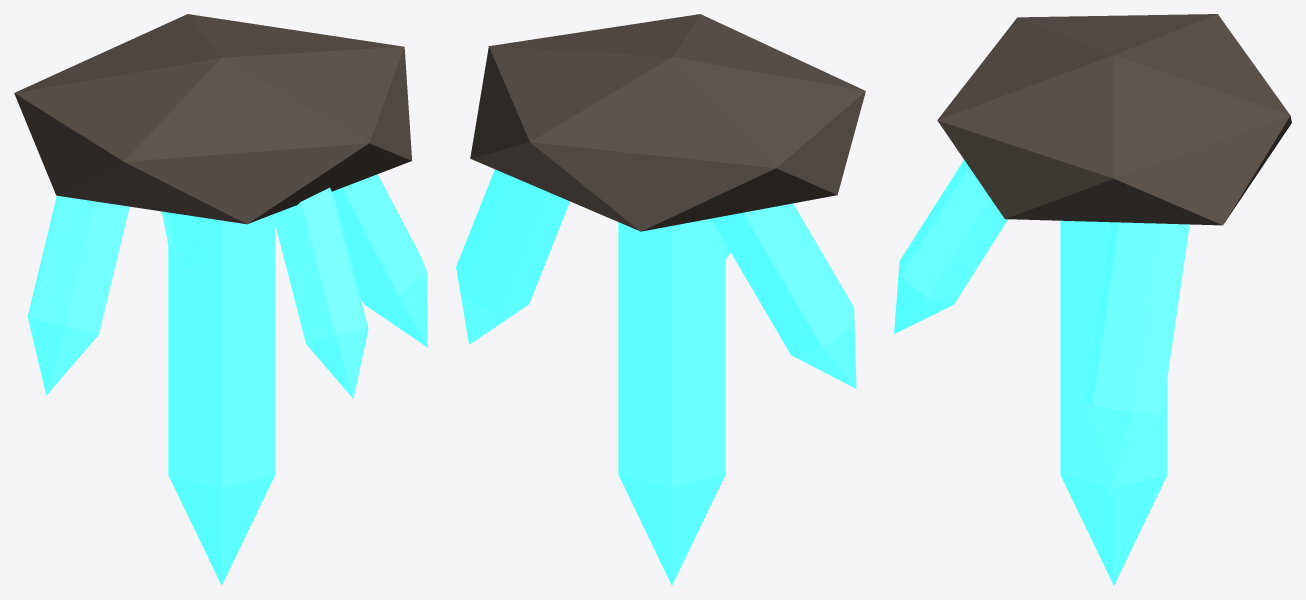
The model's file is mine_crystal_hanging.glb.
3 views of the same model, side by side, from view 1: azimuth 30°, elevation 25°; view 2: azimuth 150°, elevation 25°; view 3: azimuth 270°, elevation 25° (orthographic).
Parts seen in each view (by area): view 1: mine_crystal_hanging; view 2: mine_crystal_hanging; view 3: mine_crystal_hanging.
Boxes of the visible parts, box(x1,y1,x2,y2) form: mine_crystal_hanging: box(14, 14, 427, 585); mine_crystal_hanging: box(456, 14, 865, 585); mine_crystal_hanging: box(894, 14, 1291, 585).
Size of the model in its own units: 0.8836 by 1.13 by 0.769.
